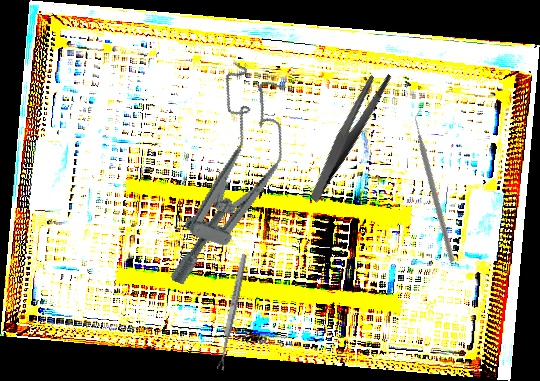Chopper: (357, 105, 517, 264)
Dressing Forceps: (281, 66, 416, 203)
Speculum: (154, 60, 307, 302)
Surgical Spoon: (215, 253, 249, 371)
